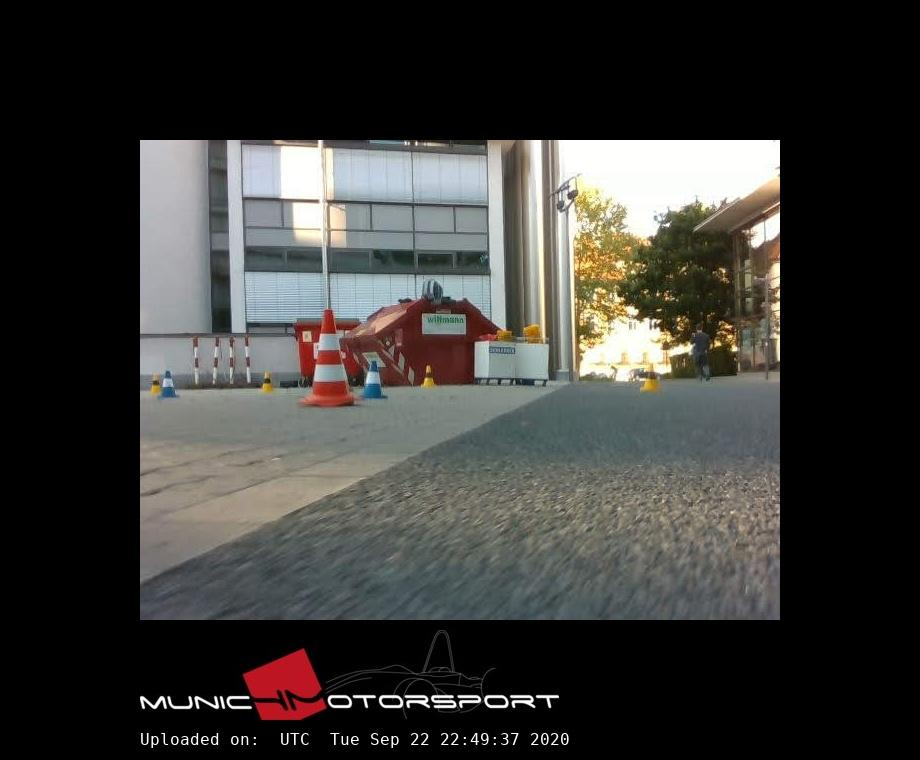blue_cone: (359, 361, 388, 398), (158, 371, 179, 397)
large_orange_cone: (298, 310, 363, 407)
yellow_cone: (639, 364, 661, 391), (421, 366, 437, 388), (260, 372, 274, 393), (150, 374, 161, 394)
